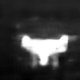plane: (15, 32, 79, 70)
